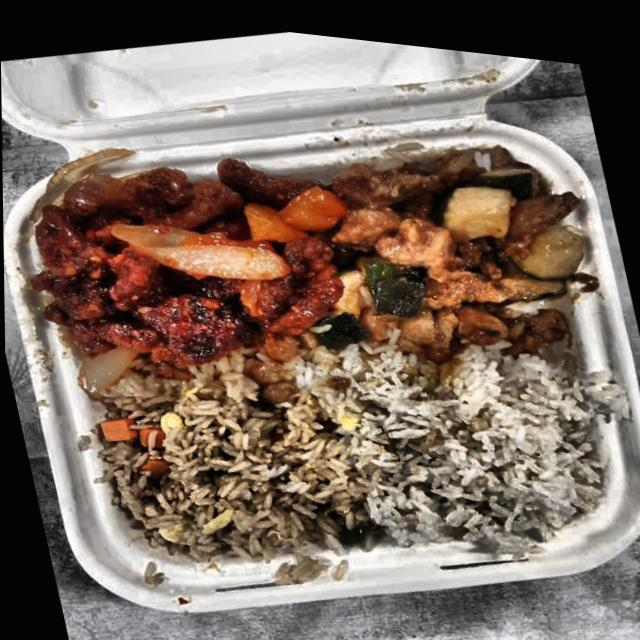Food: (7, 119, 342, 413), (293, 94, 610, 388), (74, 314, 375, 590), (323, 302, 629, 572)
